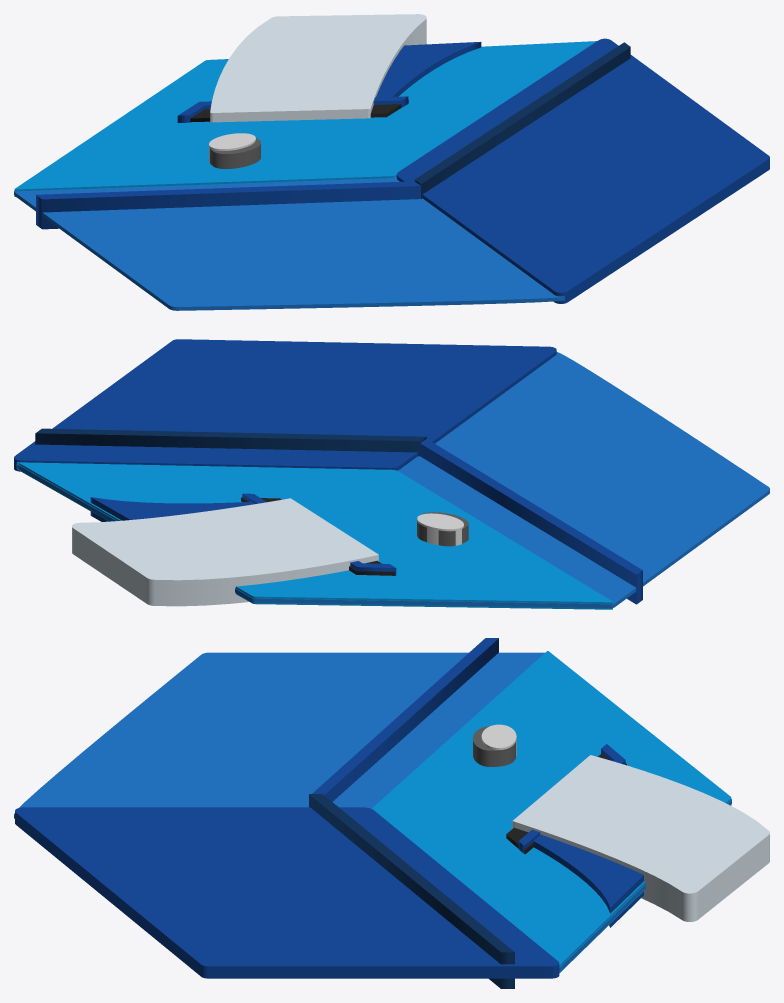
The model's file is emoji_u1f5f3.glb.
3 renders of one model, top to bottom at view 1: azimuth 30°, elevation 25°; view 2: azimuth 150°, elevation 25°; view 3: azimuth 270°, elevation 25°, orthographic. The views are drawn at different scales.
Parts seen in each view (by area): view 1: emoji_u1f5f3; view 2: emoji_u1f5f3; view 3: emoji_u1f5f3.
Part boxes in pixels (<box>): emoji_u1f5f3: <box>14,14,769,310</box>; emoji_u1f5f3: <box>14,339,769,609</box>; emoji_u1f5f3: <box>14,638,769,988</box>.
Size of the model in its own units: 0.0335 by 0.0022 by 0.0336.
